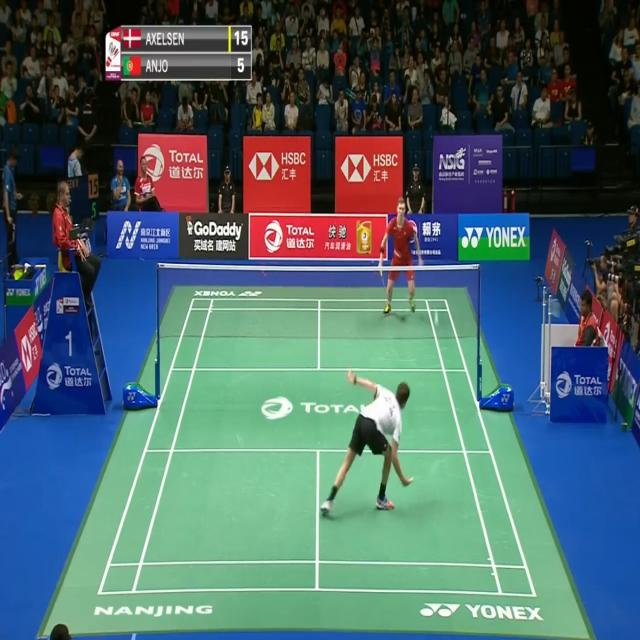Player1: (320, 366, 418, 522)
Player2: (375, 188, 430, 318)
